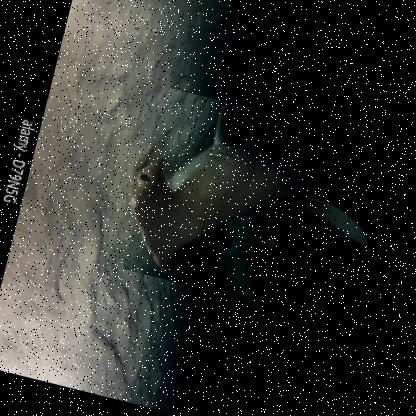hammerhead_Shark: (100, 81, 415, 332)
